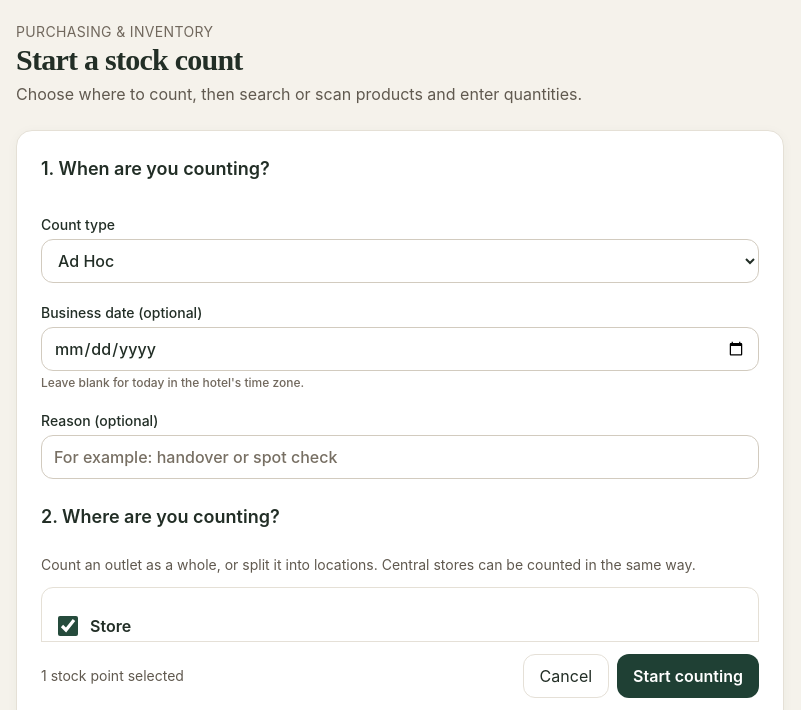
Test: normal stock role workflow › rejects stale source choices when the actual signed-in identity changes without a rerender
Expected: the text "Store" is shown, [58,616,131,636]
Click the button "Start counting". click: (688, 676)
box: [617,654,759,698]
(page scrolled)
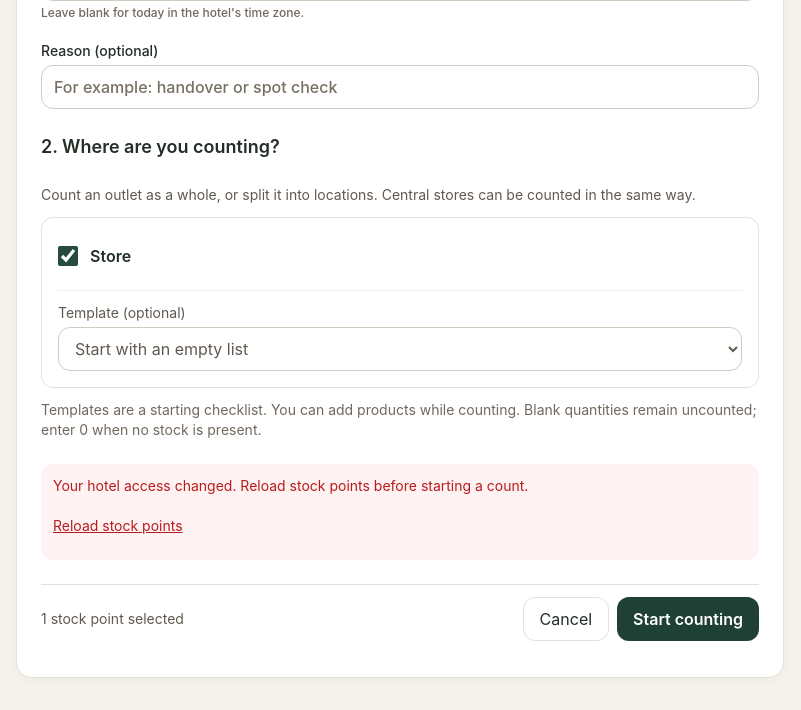
Expected: the text "Reload stock points before starting a count" is shown, [53,477,528,494]
